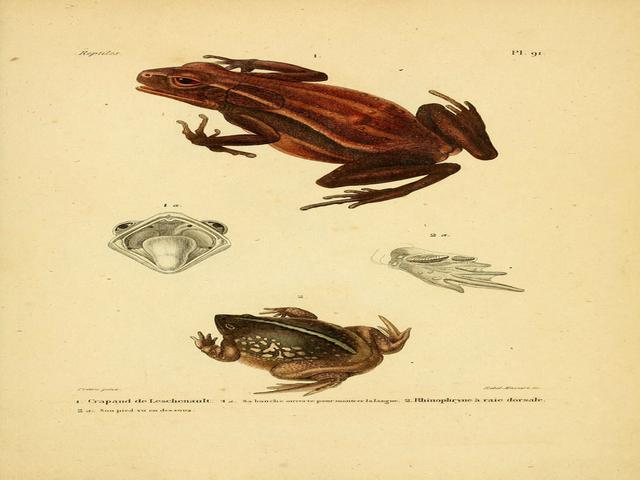frog: (118, 11, 541, 204), (175, 274, 459, 419)
